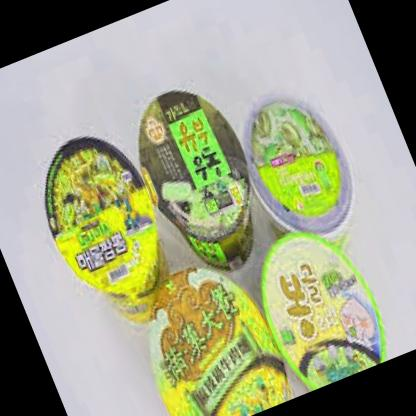Ramen: (16, 114, 198, 348), (116, 72, 283, 284), (233, 198, 409, 396), (110, 245, 300, 416), (229, 88, 384, 266)
